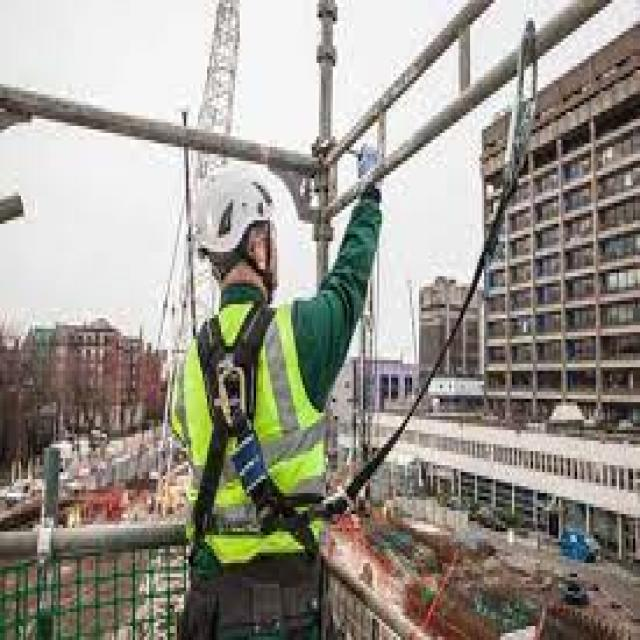harness: (215, 19, 562, 561)
